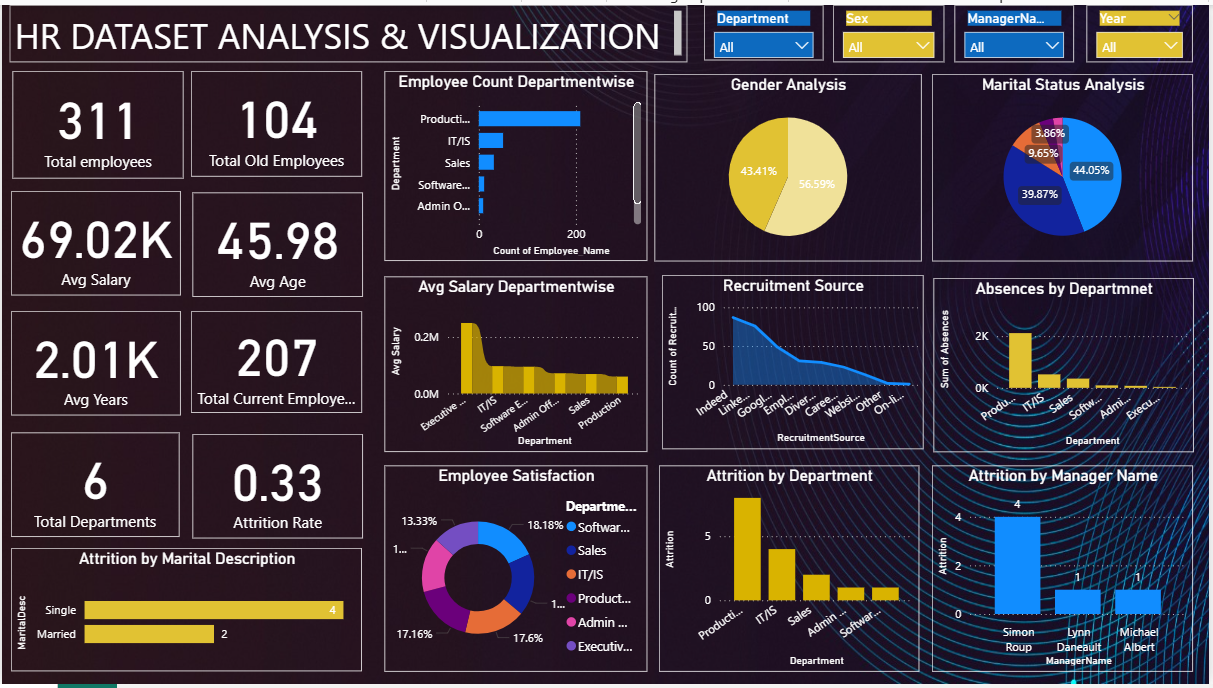

The dashboard page shown, as its layout file describes it:
{"tool":"powerbi","page":{"name":"Page 1","canvas":[1280,720],"ordinal":0},"visuals":[{"type":"textbox","box":[8.6,0,719,60.3],"z":0},{"type":"card","fields":{"Values":["AllEmployees.Total employees"]},"box":[10.8,69.2,181.5,113.8],"z":1000},{"type":"card","fields":{"Values":["AllEmployees.Total Old Employees"]},"box":[200,70.8,181.5,112.3],"z":2000},{"type":"card","fields":{"Values":["AllEmployees.Avg Salary"]},"box":[9.2,196.9,180,110.8],"z":3000},{"type":"card","fields":{"Values":["AllEmployees.Avg Age"]},"box":[201.8,198.2,180.7,110.5],"z":4000},{"type":"card","fields":{"Values":["AllEmployees.Avg Years"]},"box":[9.2,324.6,180,110.8],"z":5000},{"type":"card","fields":{"Values":["AllEmployees.Total Current Employees"]},"box":[200,324.6,181.5,107.7],"z":6000},{"type":"card","fields":{"Values":["AllEmployees.Total Departments"]},"box":[9.2,453.8,178.5,110.8],"z":7000},{"type":"card","fields":{"Values":["AllEmployees.Attrition Rate"]},"box":[201.8,454.4,180.7,110.5],"z":8000},{"type":"clusteredBarChart","title":"Employee Count Departmentwise","fields":{"Category":["AllEmployees.Department"],"Y":["AllEmployees.Employee_Name"]},"box":[406.2,70.8,278.5,201.5],"z":9000},{"type":"pieChart","title":"Gender Analysis","fields":{"Category":["AllEmployees.Sex"],"Y":["AllEmployees.Sex"]},"box":[692.3,73.8,283.1,198.5],"z":10000},{"type":"pieChart","title":"Marital Status Analysis","fields":{"Category":["AllEmployees.MaritalDesc"],"Y":["AllEmployees.MaritalDesc"]},"box":[986.2,73.8,276.9,198.5],"z":11000},{"type":"ribbonChart","title":"Avg Salary Departmentwise","fields":{"Category":["AllEmployees.Department"],"Y":["AllEmployees.Avg Salary"]},"box":[406.3,287.3,278.5,186.1],"z":12000},{"type":"clusteredColumnChart","title":"Absences by Departmnet","fields":{"Category":["AllEmployees.Department"],"Y":["AllEmployees.Absences"]},"box":[987.9,289.7,275.9,184.5],"z":13000},{"type":"stackedAreaChart","title":"Recruitment Source","fields":{"Category":["AllEmployees.RecruitmentSource"],"Y":["AllEmployees.RecruitmentSource"]},"box":[700,286.2,277.6,184.5],"z":14000},{"type":"donutChart","title":"Employee Satisfaction","fields":{"Category":["AllEmployees.Department"],"Y":["AllEmployees.EmpSatisfaction"]},"box":[406.2,487.7,278.5,218.5],"z":15000},{"type":"columnChart","title":"Attrition by Department","fields":{"Category":["AllEmployees.Department"],"Y":["AllEmployees.Attrition"]},"box":[696.6,487.9,275.9,219],"z":16000},{"type":"columnChart","title":"Attrition by Manager Name","fields":{"Category":["AllEmployees.ManagerName"],"Y":["AllEmployees.Attrition"]},"box":[986.2,487.7,276.9,218.5],"z":17000},{"type":"barChart","title":"Attrition by Marital Description","fields":{"Category":["AllEmployees.MaritalDesc"],"Y":["AllEmployees.Attrition"]},"box":[9.2,575.4,372.3,130.8],"z":18000},{"type":"slicer","title":"Attrition by Marital Desc","fields":{"Values":["AllEmployees.ManagerName"]},"box":[1010.7,0,126.8,60.7],"z":19000},{"type":"slicer","title":"Attrition by Marital Desc","fields":{"Values":["AllEmployees.Year"]},"box":[1150,0,112.5,60.7],"z":20000},{"type":"slicer","title":"Attrition by Marital Desc","fields":{"Values":["AllEmployees.Sex"]},"box":[880.9,0,118.1,60.6],"z":21000},{"type":"slicer","fields":{"Values":["AllEmployees.Department"]},"box":[744.7,0,126.6,58.5],"z":22000}]}

Visuals, with their boxes in screenshot pixels (x1, y1, x2, y2), scaled from the page's 1280x720 canvas onto the 1213x688 screenshot:
textbox: BBox(8, 0, 690, 58)
card - AllEmployees.Total employees: BBox(10, 66, 182, 175)
card - AllEmployees.Total Old Employees: BBox(190, 68, 362, 175)
card - AllEmployees.Avg Salary: BBox(9, 188, 179, 294)
card - AllEmployees.Avg Age: BBox(191, 189, 362, 295)
card - AllEmployees.Avg Years: BBox(9, 310, 179, 416)
card - AllEmployees.Total Current Employees: BBox(190, 310, 362, 413)
card - AllEmployees.Total Departments: BBox(9, 434, 178, 540)
card - AllEmployees.Attrition Rate: BBox(191, 434, 362, 540)
"Employee Count Departmentwise" clusteredBarChart: BBox(385, 68, 649, 260)
"Gender Analysis" pieChart: BBox(656, 71, 924, 260)
"Marital Status Analysis" pieChart: BBox(935, 71, 1197, 260)
"Avg Salary Departmentwise" ribbonChart: BBox(385, 275, 649, 452)
"Absences by Departmnet" clusteredColumnChart: BBox(936, 277, 1198, 453)
"Recruitment Source" stackedAreaChart: BBox(663, 273, 926, 450)
"Employee Satisfaction" donutChart: BBox(385, 466, 649, 675)
"Attrition by Department" columnChart: BBox(660, 466, 922, 675)
"Attrition by Manager Name" columnChart: BBox(935, 466, 1197, 675)
"Attrition by Marital Description" barChart: BBox(9, 550, 362, 675)
"Attrition by Marital Desc" slicer: BBox(958, 0, 1078, 58)
"Attrition by Marital Desc" slicer: BBox(1090, 0, 1196, 58)
"Attrition by Marital Desc" slicer: BBox(835, 0, 947, 58)
slicer - AllEmployees.Department: BBox(706, 0, 826, 56)
